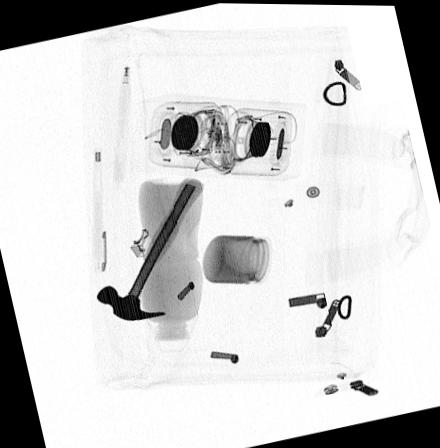Hammer: (96, 176, 203, 320)
